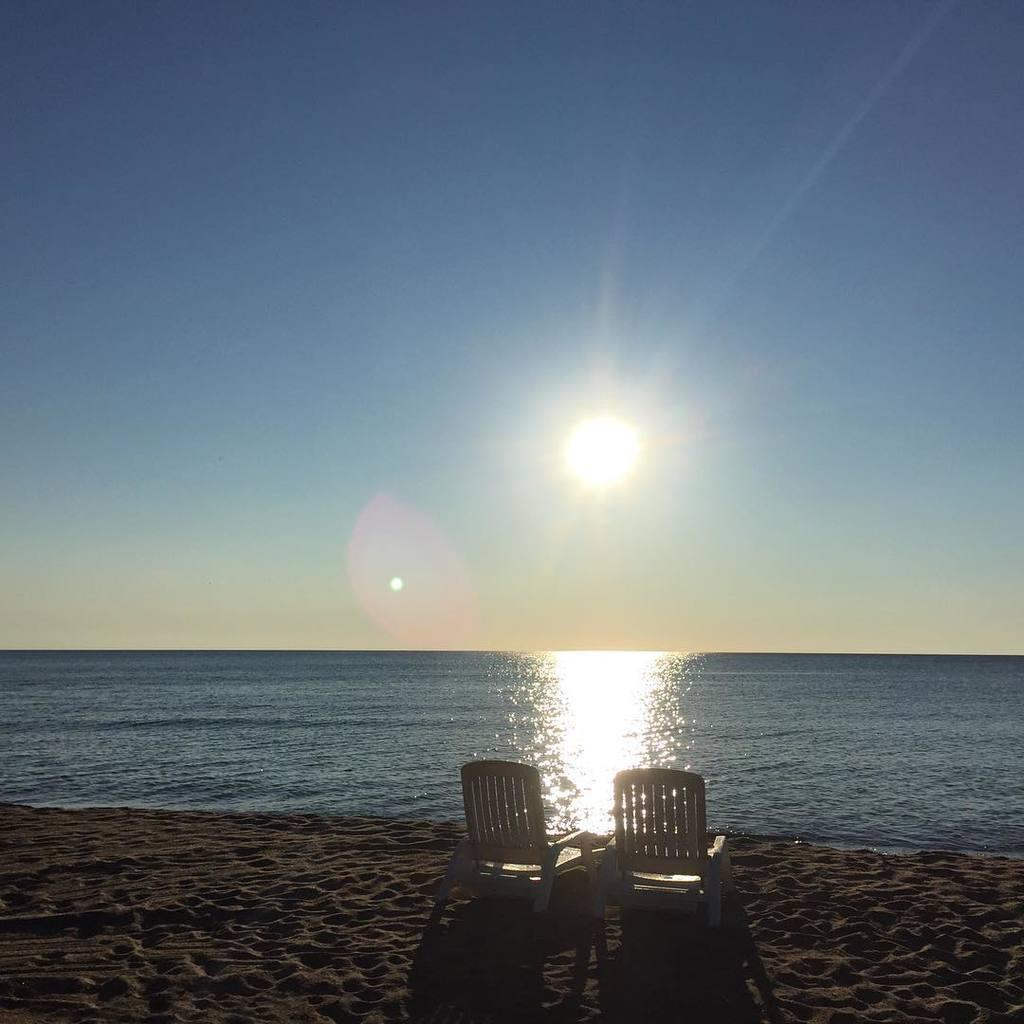Chair: (456, 759, 602, 950), (605, 763, 736, 923)
